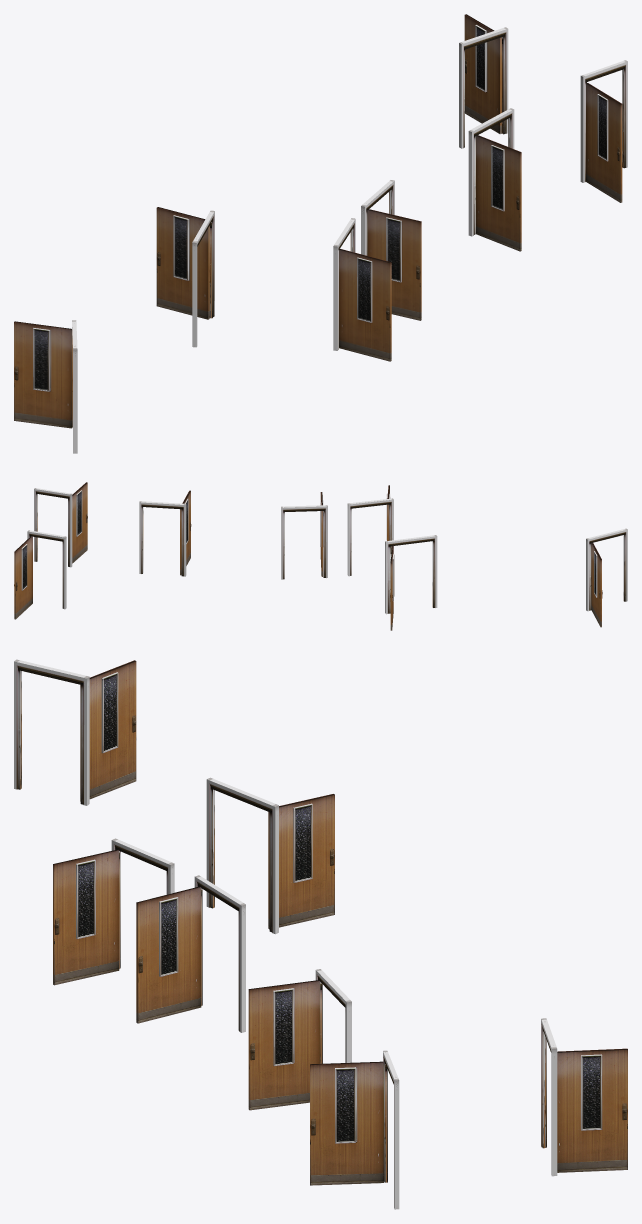
File: Doors_Open01.FBX
3 renders of one model, top to bottom at view 1: azimuth 30°, elevation 25°; view 2: azimuth 150°, elevation 25°; view 3: azimuth 270°, elevation 25°, orthographic. The views are drawn at different scales.
Visible parts, largest first — view 1: Object036, Object038, Object037, Object040, Object042, Object039, Object041; view 2: Object041, Object042, Object036, Object037, Object040, Object039, Object038; view 3: Object042, Object041, Object037, Object039, Object040, Object038, Object036.
Boxes of the visible parts, x1=… form: Object036: x1=14, y1=320, x2=77, y2=453; Object038: x1=333, y1=218, x2=391, y2=361; Object037: x1=156, y1=207, x2=214, y2=347; Object040: x1=468, y1=108, x2=521, y2=251; Object042: x1=580, y1=60, x2=627, y2=202; Object039: x1=361, y1=180, x2=421, y2=320; Object041: x1=459, y1=14, x2=508, y2=148; Object041: x1=14, y1=530, x2=66, y2=619; Object042: x1=34, y1=482, x2=87, y2=567; Object036: x1=586, y1=528, x2=627, y2=627; Object037: x1=385, y1=535, x2=437, y2=630; Object040: x1=139, y1=490, x2=191, y2=576; Object039: x1=281, y1=492, x2=327, y2=579; Object038: x1=347, y1=485, x2=393, y2=576; Object042: x1=310, y1=1050, x2=399, y2=1209; Object041: x1=541, y1=1018, x2=627, y2=1176; Object037: x1=206, y1=777, x2=334, y2=934; Object039: x1=136, y1=875, x2=245, y2=1032; Object040: x1=248, y1=969, x2=351, y2=1110; Object038: x1=53, y1=838, x2=174, y2=985; Object036: x1=14, y1=659, x2=136, y2=805.
Bounding box in the file's own units: 1750 × 246 × 1060.
